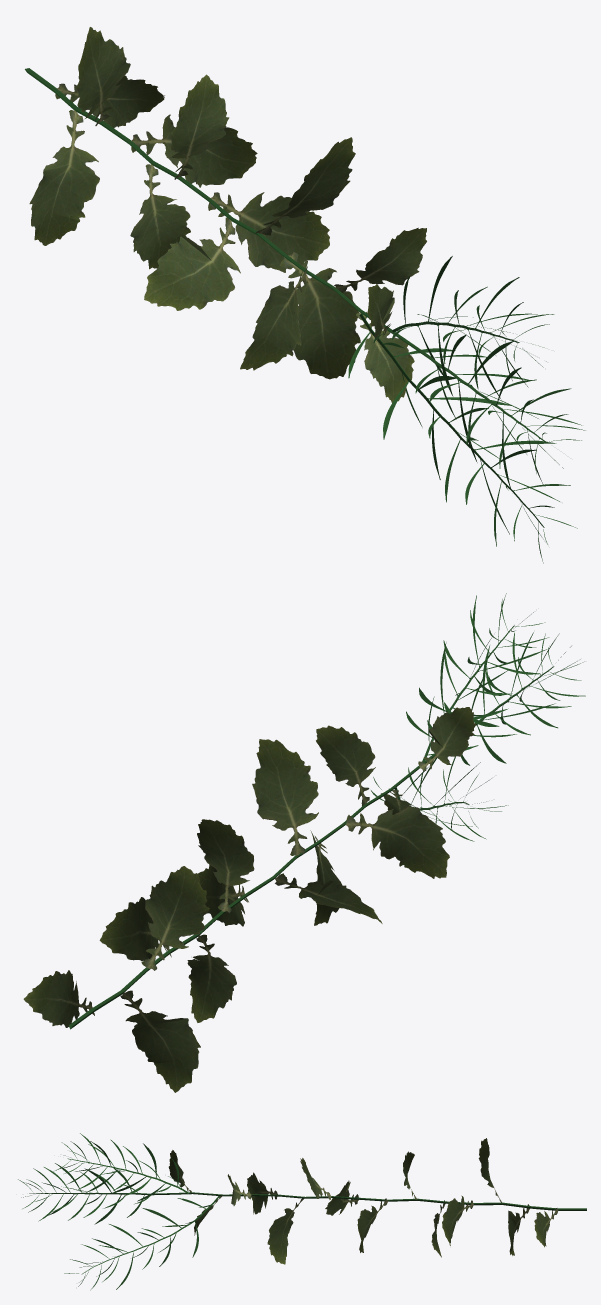
3 renders of one model, top to bottom at view 1: azimuth 30°, elevation 25°; view 2: azimuth 150°, elevation 25°; view 3: azimuth 270°, elevation 25°, orthographic. The views are drawn at different scales.
Parts seen in each view (by area): view 1: GC22_v3; view 2: GC22_v3; view 3: GC22_v3.
Boxes of the visible parts, left/top/right/bottom form: GC22_v3: left=25, top=27, right=585, bottom=563; GC22_v3: left=23, top=593, right=585, bottom=1092; GC22_v3: left=18, top=1133, right=586, bottom=1290.
Bounding box in the file's own units: 0.2734 × 0.3092 × 1.11.
2 materials, 2 textured.
